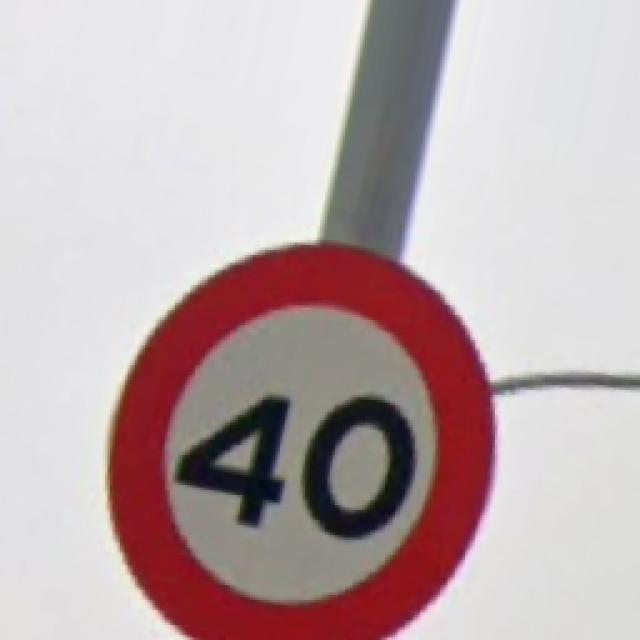Speed Limit -40-: (110, 245, 490, 638)
